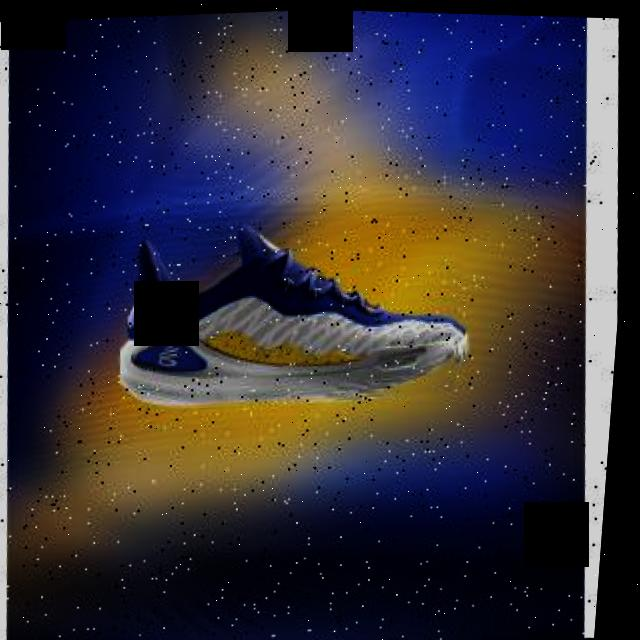shoe: (113, 204, 481, 418)
